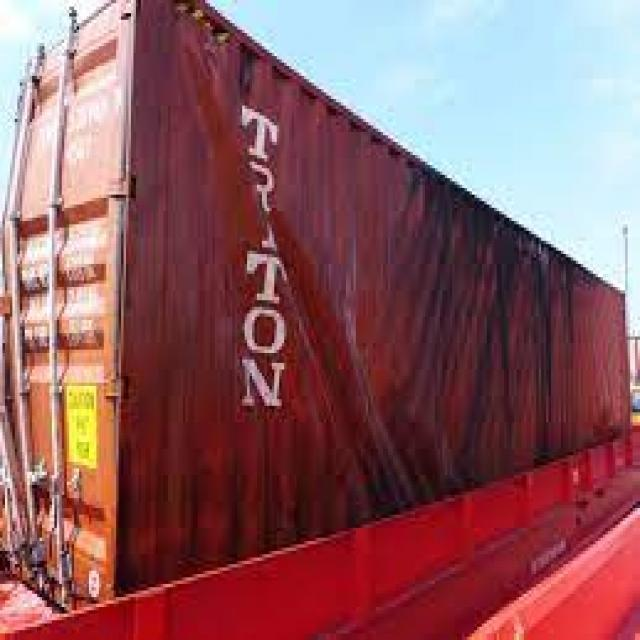dent: (178, 51, 466, 492)
